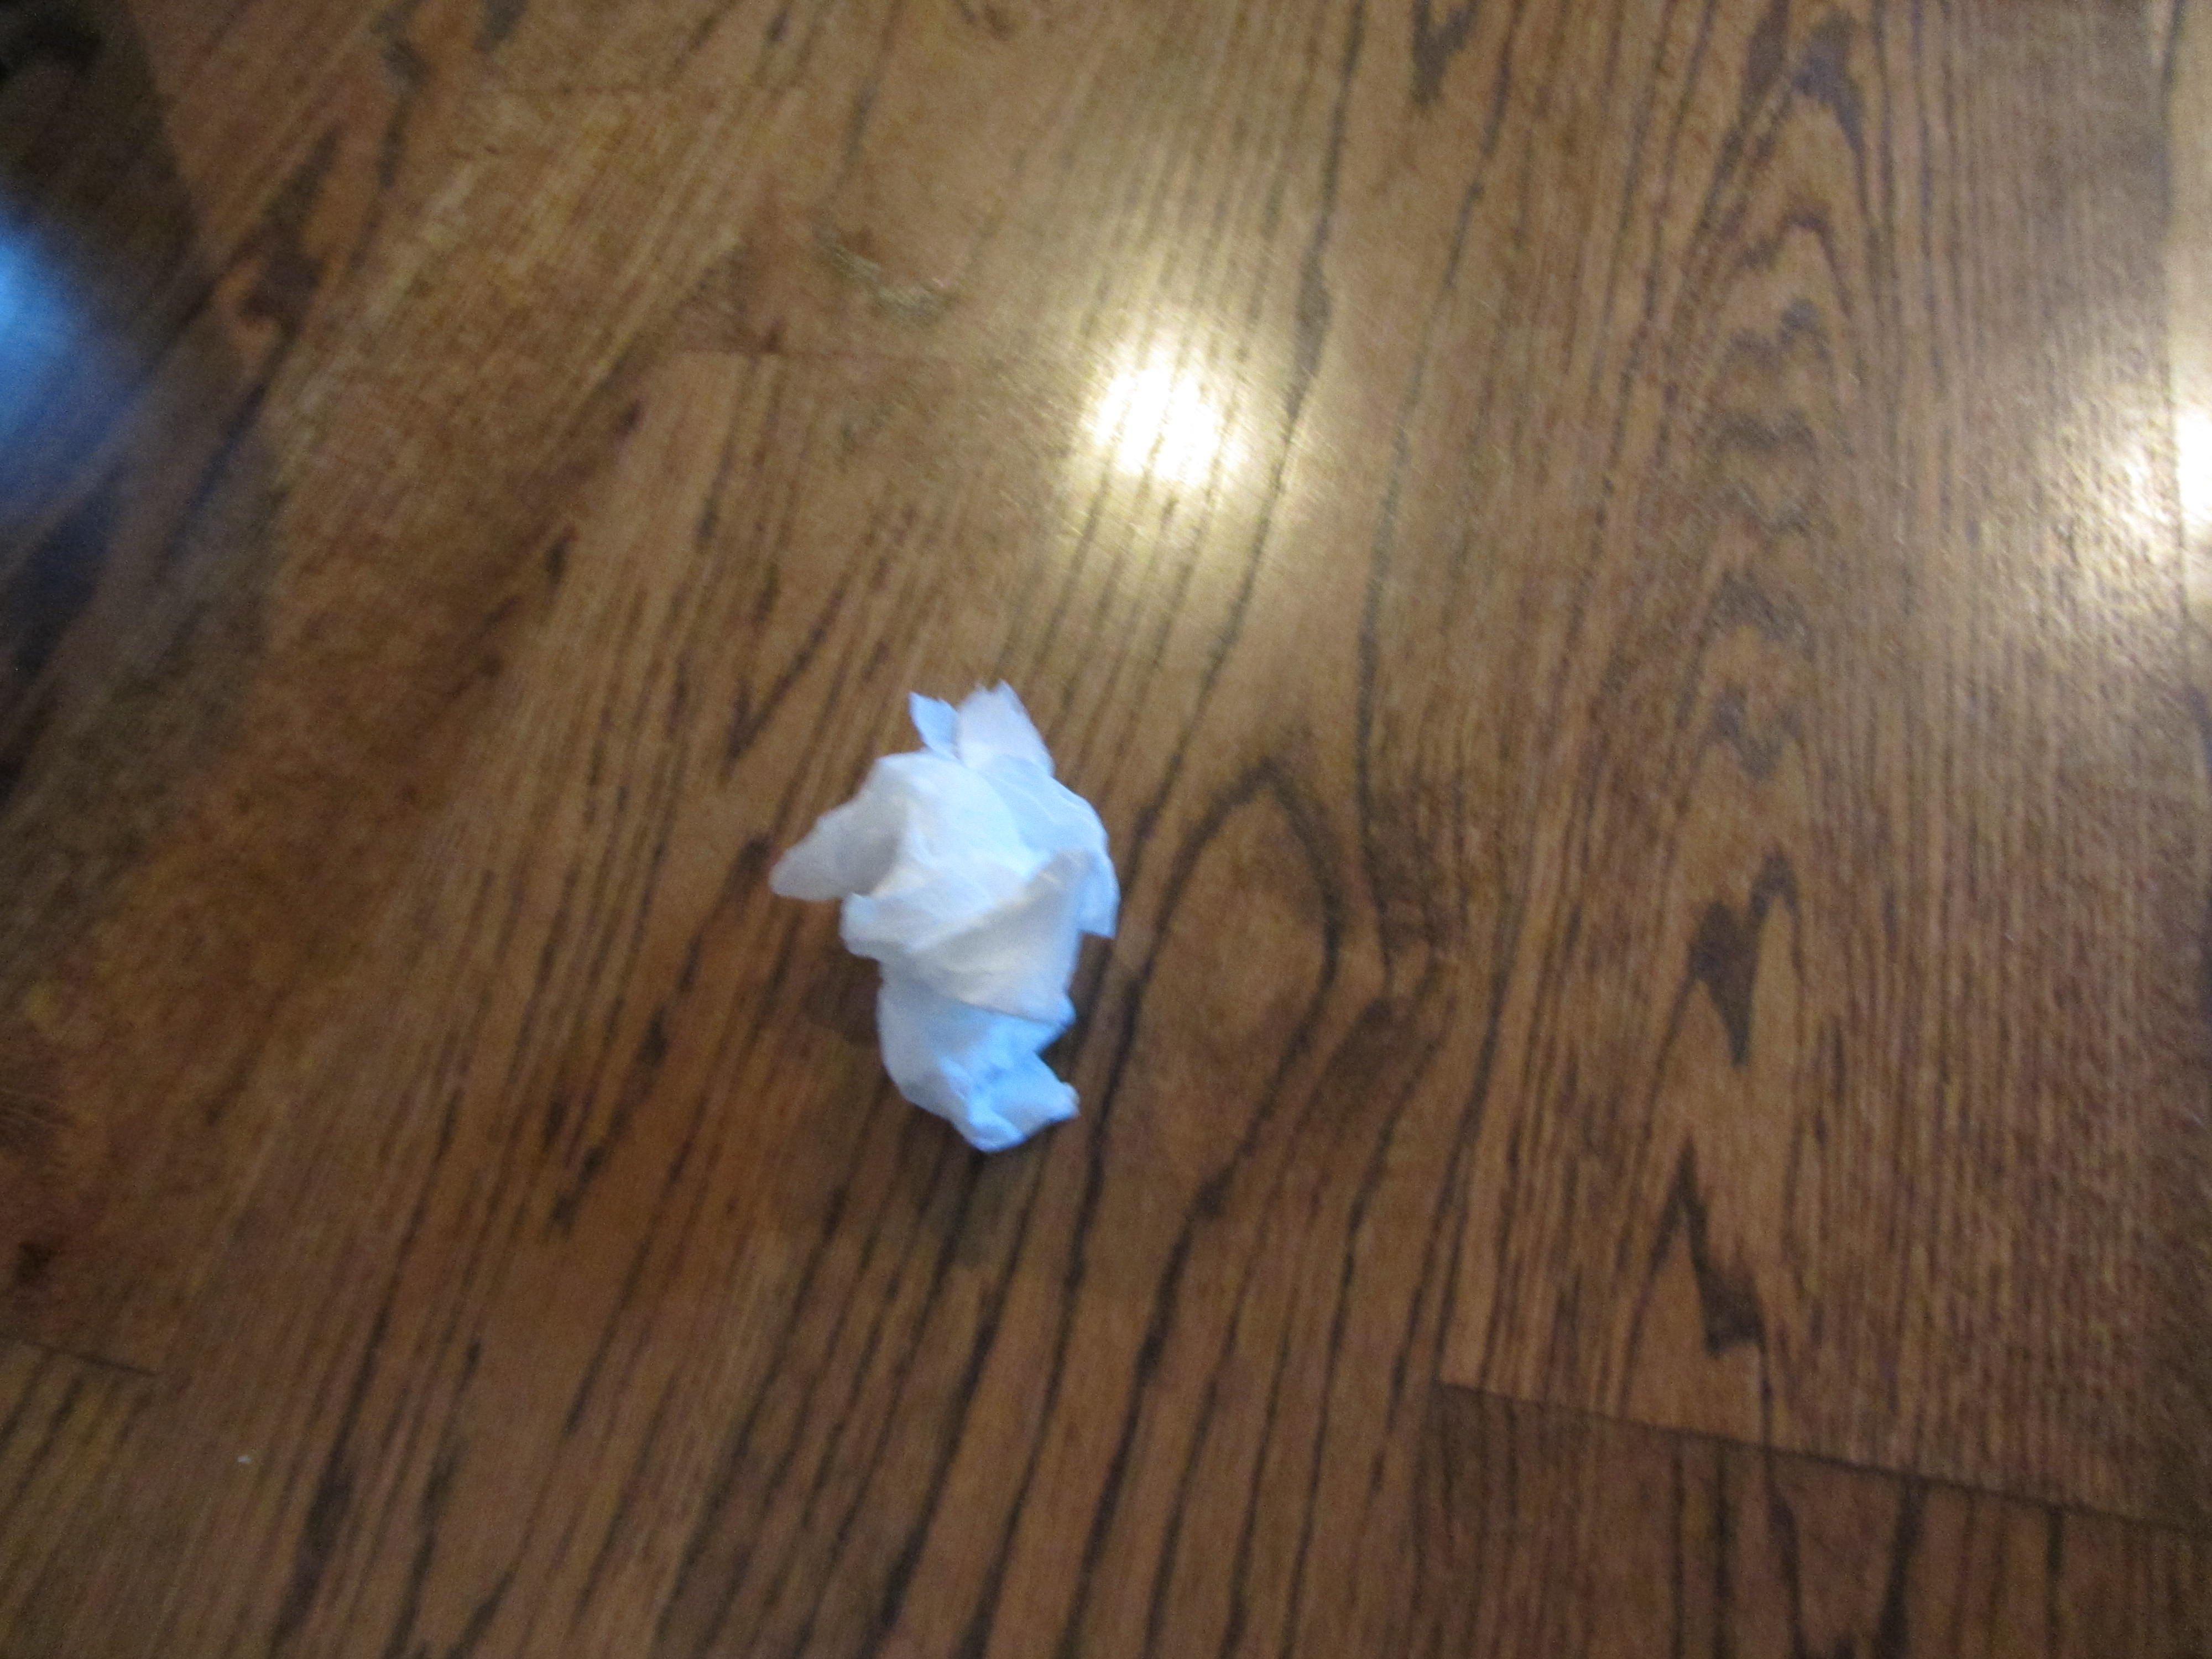tissue: (768, 652, 1146, 1175)
